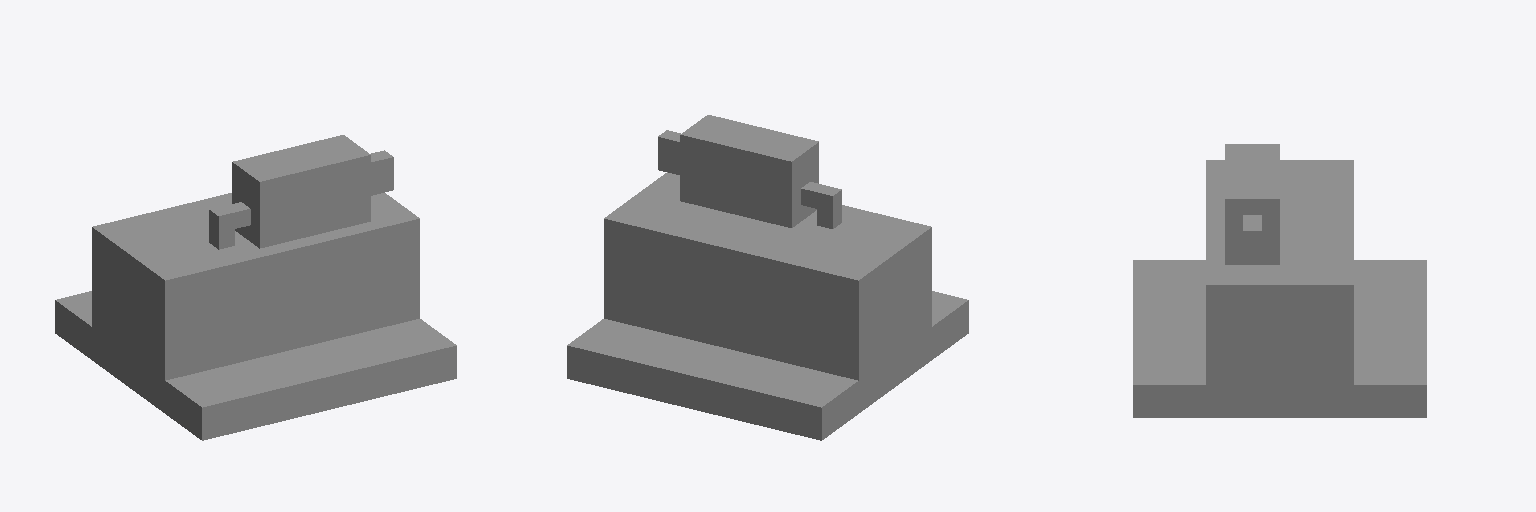
Rendered from compressor.obj.
3 renders of one model, left to right at view 1: azimuth 30°, elevation 25°; view 2: azimuth 150°, elevation 25°; view 3: azimuth 270°, elevation 25°, orthographic.
Visible parts, largest first — view 1: Cube; view 2: Cube; view 3: Cube.
Boxes of the visible parts, x1,y1,x2,y2 form: Cube: [55, 135, 456, 440]; Cube: [567, 115, 968, 440]; Cube: [1133, 144, 1426, 417].
Size of the model in its own units: 1 by 0.75 by 1.